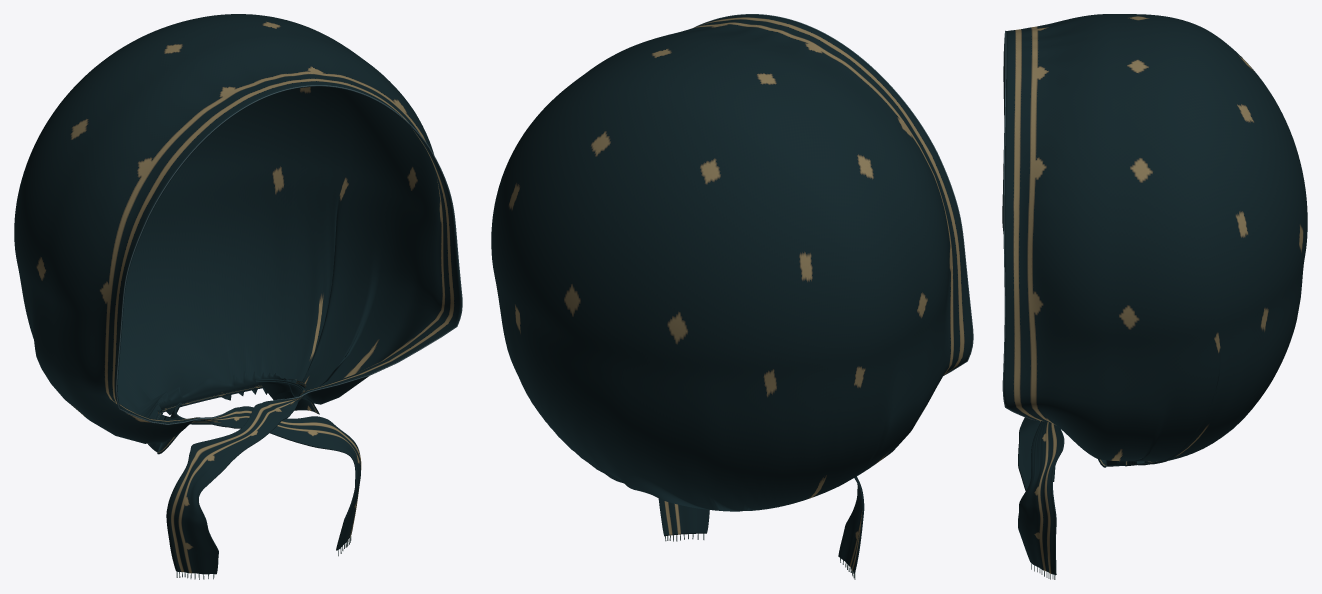
The model's file is Feminine-space-buns-jersey-pashmina250-headgear.glb.
The picture shows the model from 3 angles, left to right: view 1: azimuth 30°, elevation 25°; view 2: azimuth 150°, elevation 25°; view 3: azimuth 270°, elevation 25°; orthographic projection. The views are drawn at different scales.
Parts seen in each view (by area): view 1: 226 headgear / Headwear / continuous woven pashmina239, 226 headgear / Headwear / face edge239; view 2: 226 headgear / Headwear / continuous woven pashmina239, 226 headgear / Headwear / face edge239; view 3: 226 headgear / Headwear / continuous woven pashmina239, 226 headgear / Headwear / face edge239.
Boxes of the visible parts, x1=… form: 226 headgear / Headwear / continuous woven pashmina239: x1=14, y1=14, x2=461, y2=574; 226 headgear / Headwear / face edge239: x1=116, y1=85, x2=462, y2=424; 226 headgear / Headwear / continuous woven pashmina239: x1=491, y1=14, x2=972, y2=573; 226 headgear / Headwear / face edge239: x1=694, y1=14, x2=973, y2=375; 226 headgear / Headwear / continuous woven pashmina239: x1=1002, y1=14, x2=1307, y2=575; 226 headgear / Headwear / face edge239: x1=1002, y1=30, x2=1042, y2=421.
Size of the model in its own units: 1.07 by 1.37 by 0.7556.
3 materials, 1 textured.
